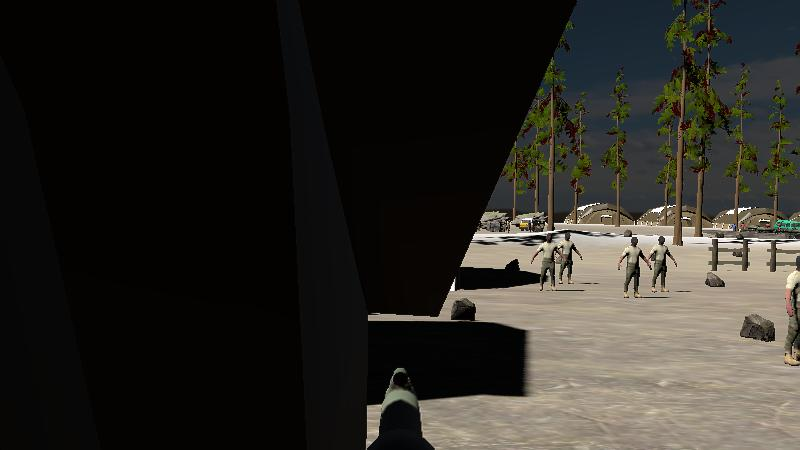Human: (617, 234, 653, 300), (782, 248, 800, 368), (530, 234, 565, 292), (783, 250, 800, 367), (648, 235, 679, 295), (556, 232, 585, 285)
car: (773, 219, 800, 236)
